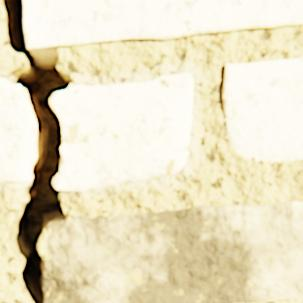brick: (43, 202, 302, 302), (23, 0, 302, 50), (222, 59, 302, 163)
broken_brick: (49, 75, 192, 191), (0, 80, 34, 184)
crack: (0, 0, 72, 302)
